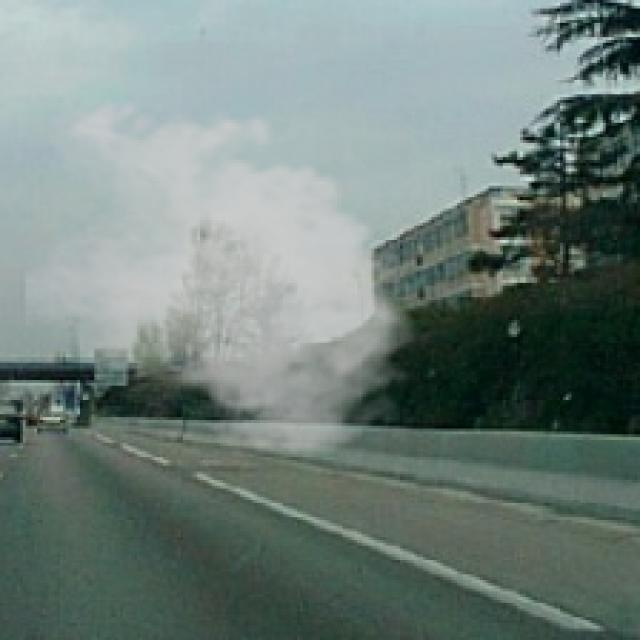smoke: (20, 88, 429, 463)
